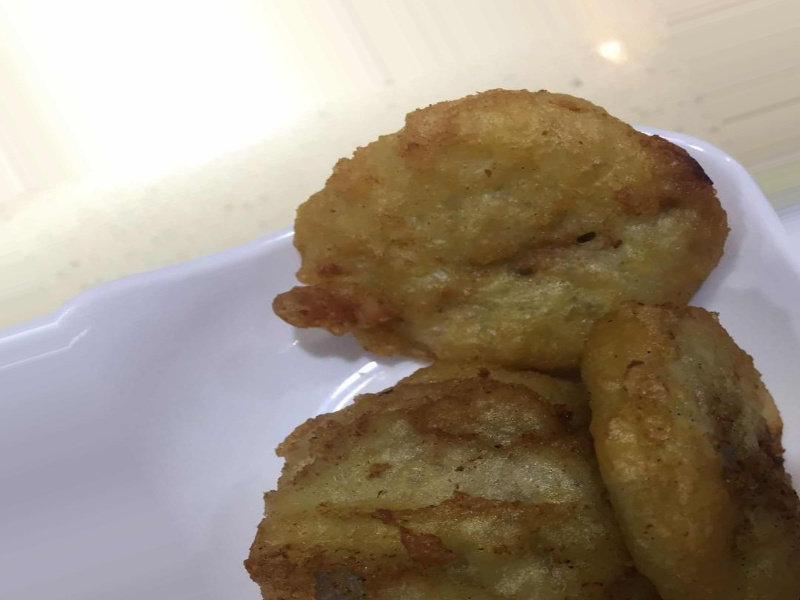patato: (220, 78, 800, 599)
